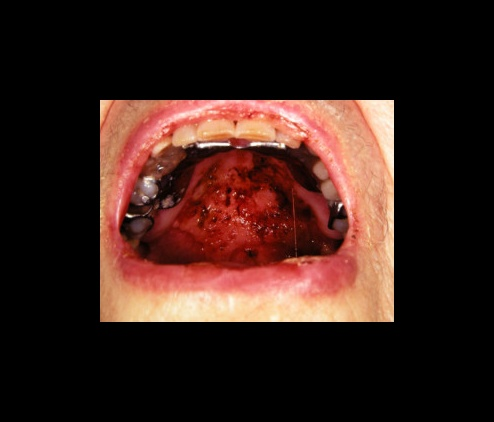SJS-TEN: (113, 120, 357, 342)
